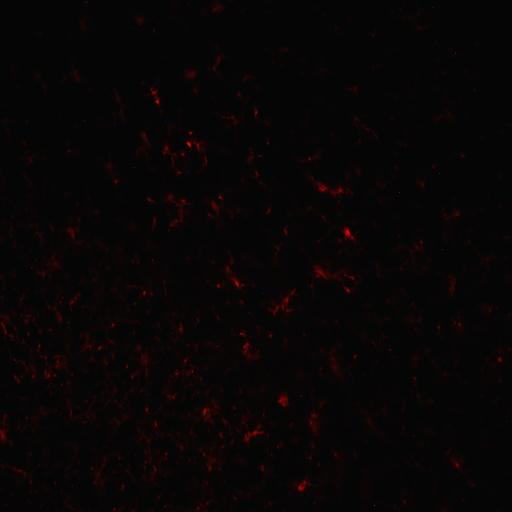microglia: (309, 251, 360, 299), (217, 256, 253, 304), (316, 210, 360, 244), (396, 232, 430, 274), (183, 131, 213, 177), (385, 2, 430, 32), (156, 134, 188, 176), (229, 326, 262, 366), (206, 193, 238, 233), (168, 348, 203, 384), (238, 461, 269, 499), (447, 452, 475, 494), (320, 338, 348, 378), (263, 287, 299, 318), (307, 178, 356, 200), (62, 213, 90, 251), (479, 344, 510, 378), (163, 193, 189, 230), (107, 87, 133, 124), (402, 296, 428, 332), (351, 118, 382, 148), (357, 406, 387, 437), (246, 142, 268, 184), (3, 458, 36, 486), (10, 356, 38, 385), (476, 243, 502, 274), (102, 314, 142, 334), (126, 280, 157, 305), (328, 447, 344, 493), (134, 429, 154, 465), (43, 293, 64, 327), (84, 286, 106, 318), (199, 444, 223, 472), (83, 391, 101, 428), (91, 456, 109, 493), (36, 343, 53, 382), (0, 314, 21, 345), (80, 330, 99, 364), (142, 82, 164, 111), (308, 402, 326, 437), (192, 400, 218, 424), (242, 423, 266, 448), (439, 204, 466, 225), (64, 398, 84, 426), (134, 131, 153, 160), (138, 348, 156, 378), (297, 148, 325, 167), (66, 65, 88, 89), (45, 252, 65, 278), (0, 410, 14, 446), (99, 381, 118, 407), (369, 330, 389, 354), (104, 160, 122, 185), (141, 464, 163, 484), (52, 354, 73, 374), (206, 52, 225, 74), (107, 414, 130, 432), (248, 101, 266, 123), (120, 384, 138, 406), (291, 474, 311, 493), (238, 410, 254, 433), (114, 244, 128, 270), (169, 432, 187, 452), (207, 338, 225, 358), (145, 402, 166, 419), (66, 292, 82, 313), (269, 240, 282, 262), (220, 417, 235, 436), (88, 265, 101, 286), (155, 448, 170, 466), (183, 68, 199, 84), (21, 151, 38, 166), (305, 441, 317, 461), (275, 394, 292, 408), (130, 249, 143, 266), (447, 271, 457, 293), (221, 113, 238, 125), (100, 354, 117, 366), (163, 390, 178, 403), (37, 266, 48, 281), (345, 85, 358, 95), (134, 15, 145, 26), (452, 316, 462, 328), (211, 4, 224, 13), (415, 178, 425, 189), (78, 20, 86, 31), (146, 197, 156, 203), (178, 323, 184, 333), (151, 217, 156, 229), (266, 206, 272, 215), (318, 366, 323, 376), (186, 141, 192, 147), (284, 228, 288, 235), (412, 376, 416, 381), (98, 346, 102, 350), (419, 240, 423, 244)
